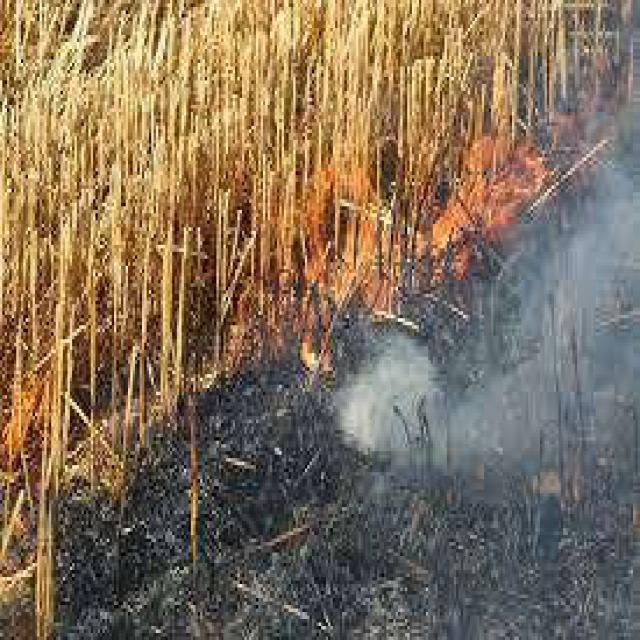smoke: (323, 325, 502, 493)
